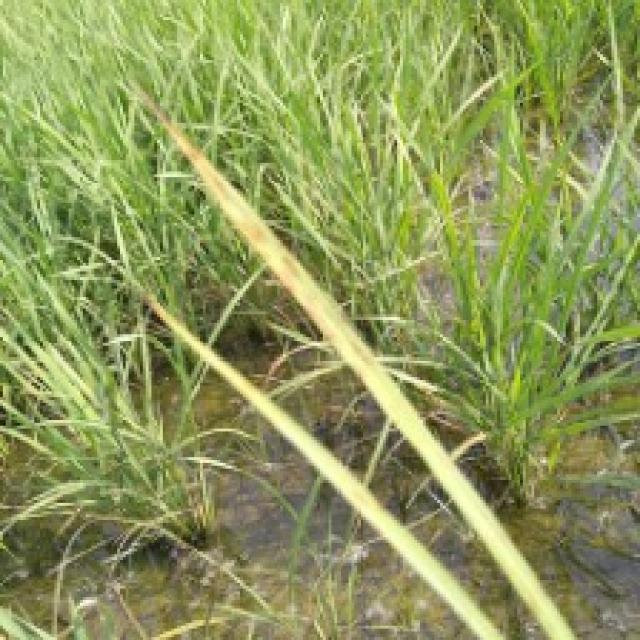Rice___Brown_Spot: (142, 87, 582, 637), (137, 292, 506, 637)
